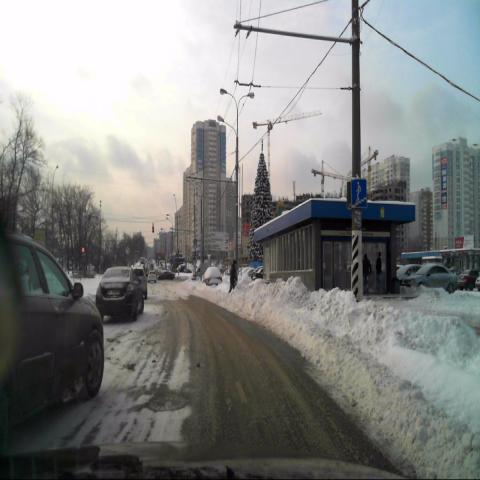6_6: (351, 178, 367, 208)
